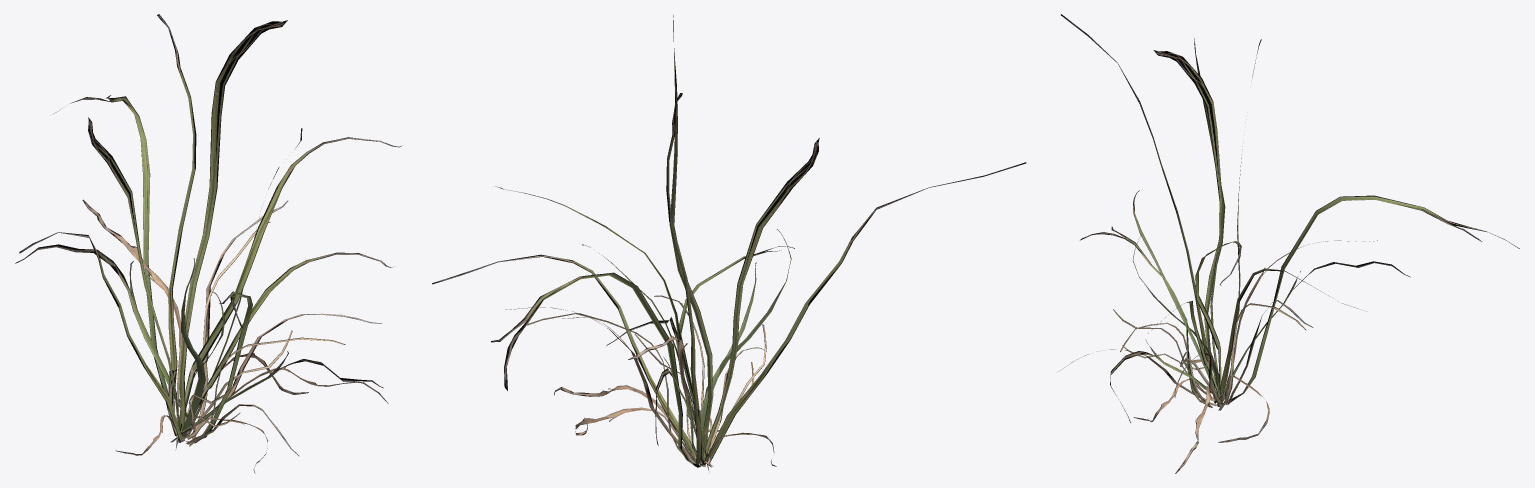
The model's file is grass_medium_02_c.gltf.
3 views of the same model, side by side, from view 1: azimuth 30°, elevation 25°; view 2: azimuth 150°, elevation 25°; view 3: azimuth 270°, elevation 25° (orthographic). The views are drawn at different scales.
Parts seen in each view (by area): view 1: grass_medium_02_c; view 2: grass_medium_02_c; view 3: grass_medium_02_c.
Boxes of the visible parts, x1,y1,x2,y2 form: grass_medium_02_c: (15, 14, 402, 473); grass_medium_02_c: (432, 15, 1026, 471); grass_medium_02_c: (1060, 14, 1519, 473).
Bounding box in the file's own units: 0.2617 × 0.2317 × 0.2495.
Materials: 1 (1 with a texture image).
